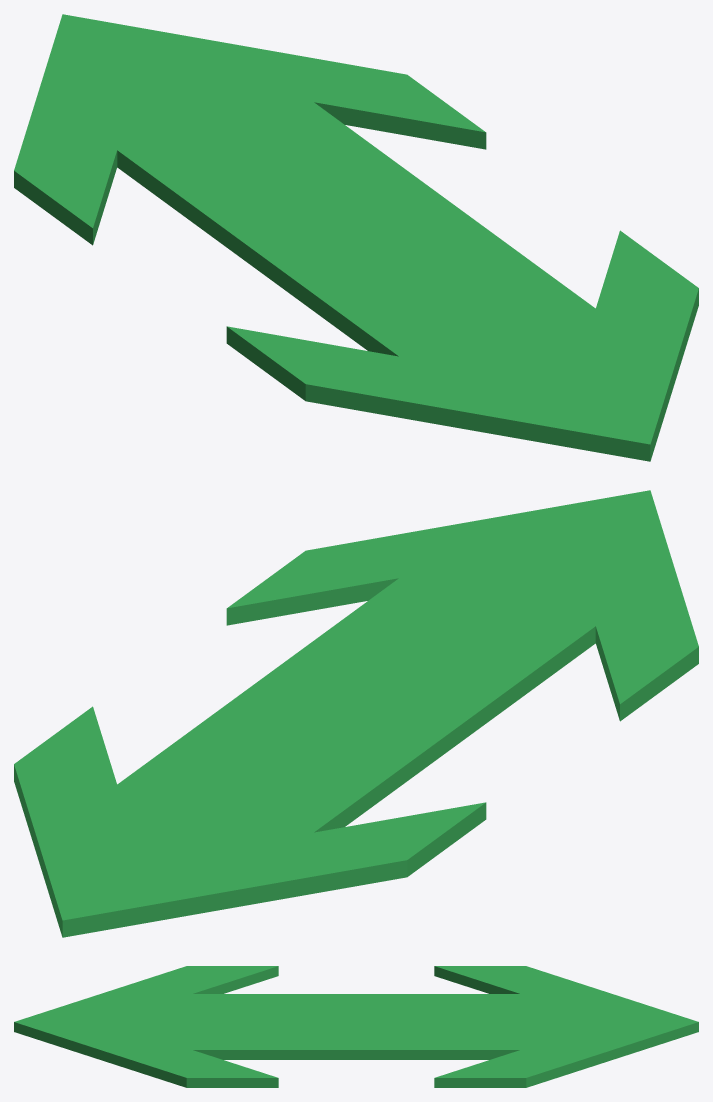
File: TwoWayArrow.fbx
3 views of the same model, one above another, from view 1: azimuth 30°, elevation 25°; view 2: azimuth 150°, elevation 25°; view 3: azimuth 270°, elevation 25° (orthographic). The views are drawn at different scales.
Visible parts, largest first — view 1: Two-Way-Arrow; view 2: Two-Way-Arrow; view 3: Two-Way-Arrow.
Boxes of the visible parts, x1,y1,x2,y2 form: Two-Way-Arrow: (14,14,698,461); Two-Way-Arrow: (14,490,698,937); Two-Way-Arrow: (14,966,698,1087).
Bounding box in the file's own units: 100 × 4.18 × 259.
